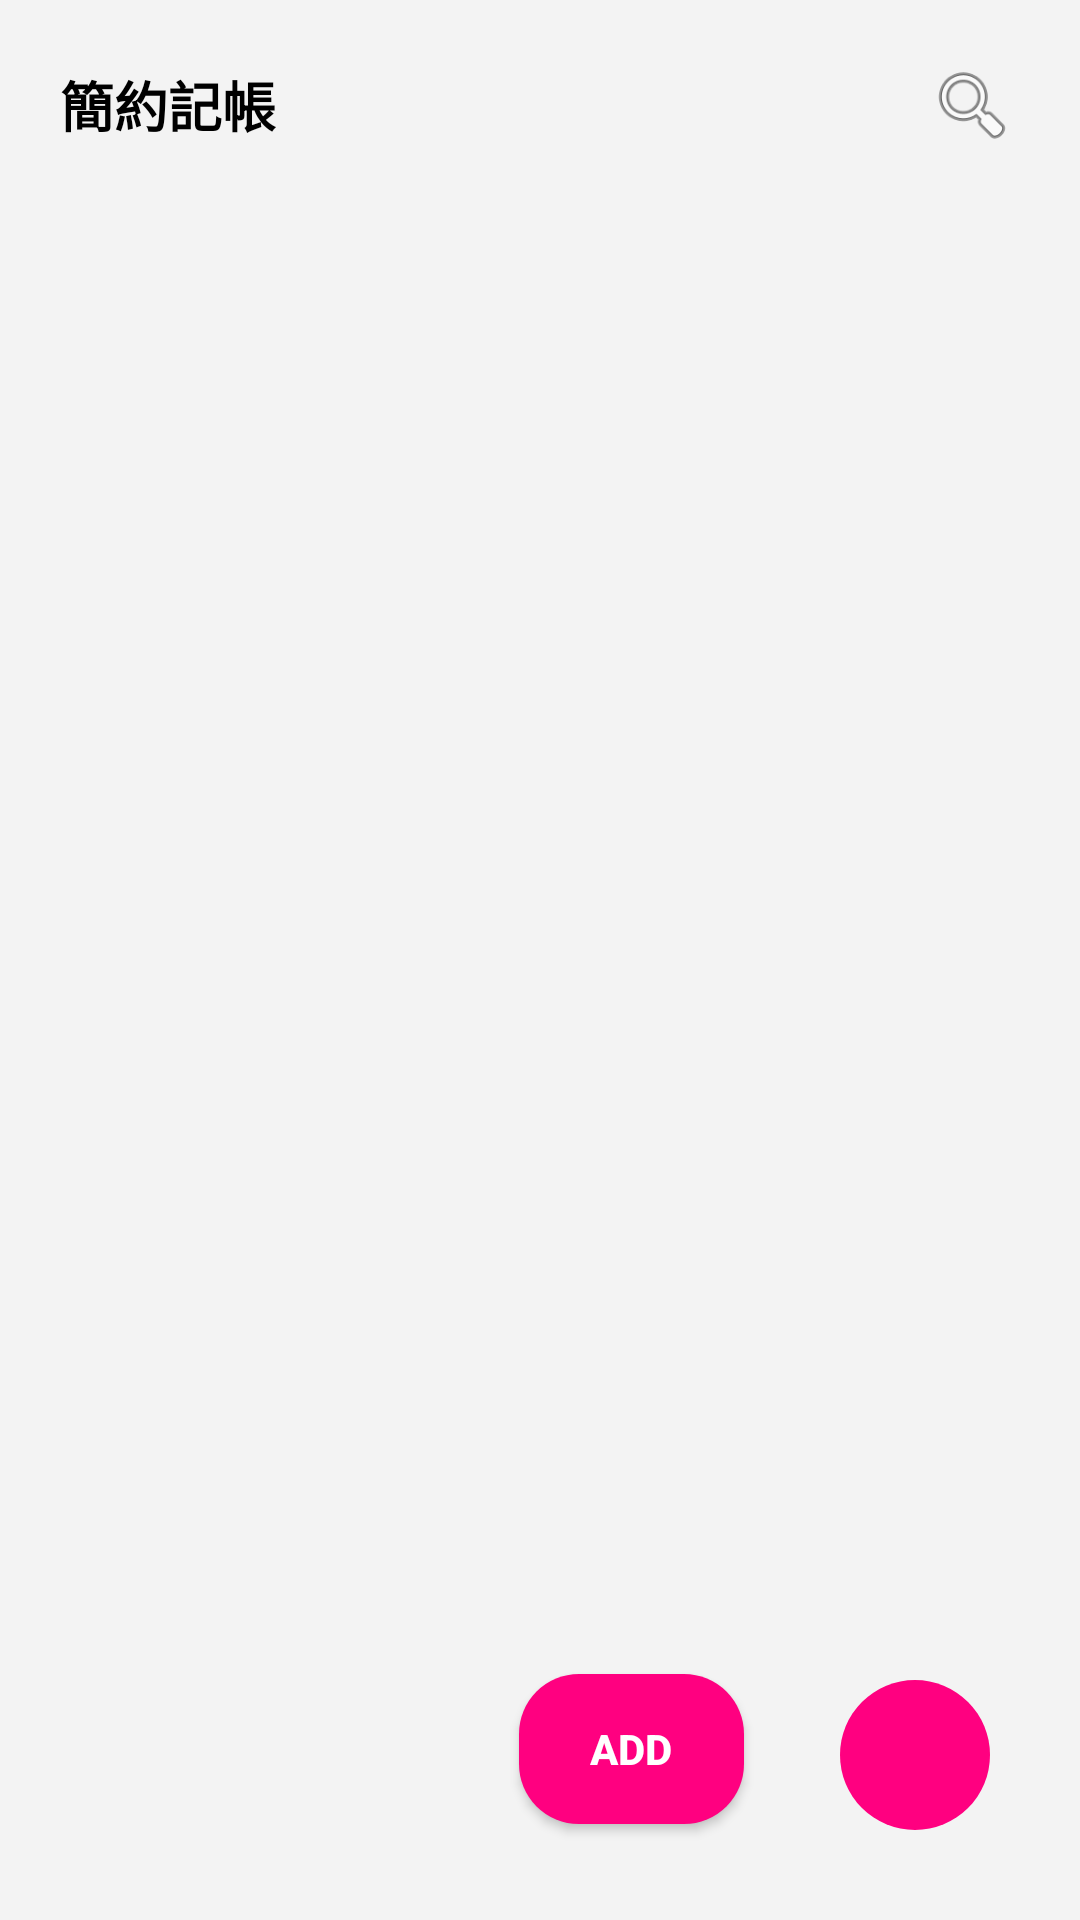

Icons on this 1080px×1920px Android screen, each with its box as detection(x1, y1, x2, y2):
search: detection(939, 72, 1005, 139)
